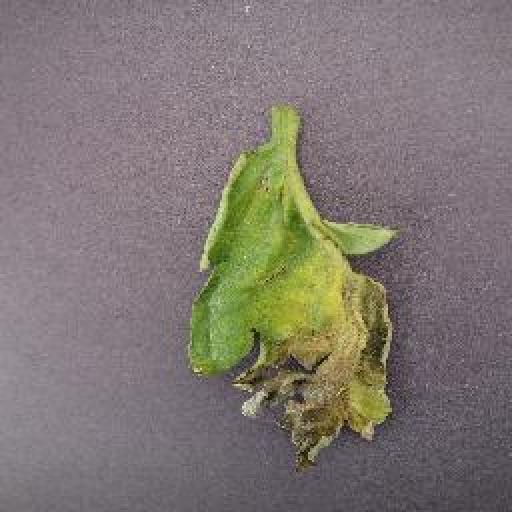disease_tomato: (190, 142, 398, 474)
